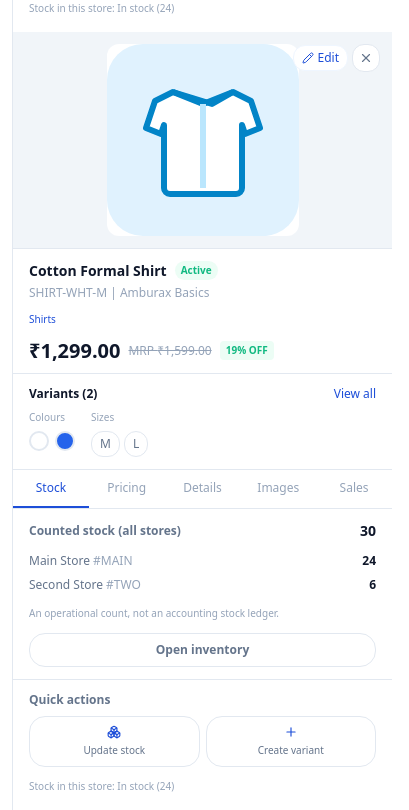
Scenario: the images tab shows the one real picture and explains the single-image limit
(page scrolled)
Click the tab "Images" at coordinates (278, 488), box [240, 470, 316, 508]
(page scrolled)
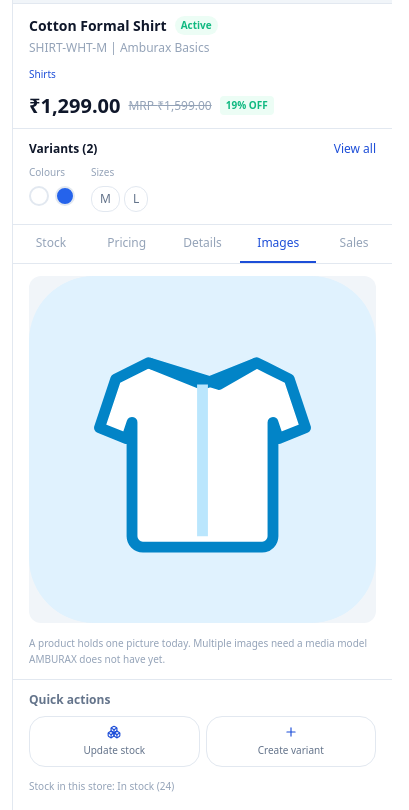
Now the text "A product holds one picture today" is shown, box [29, 636, 367, 666]
